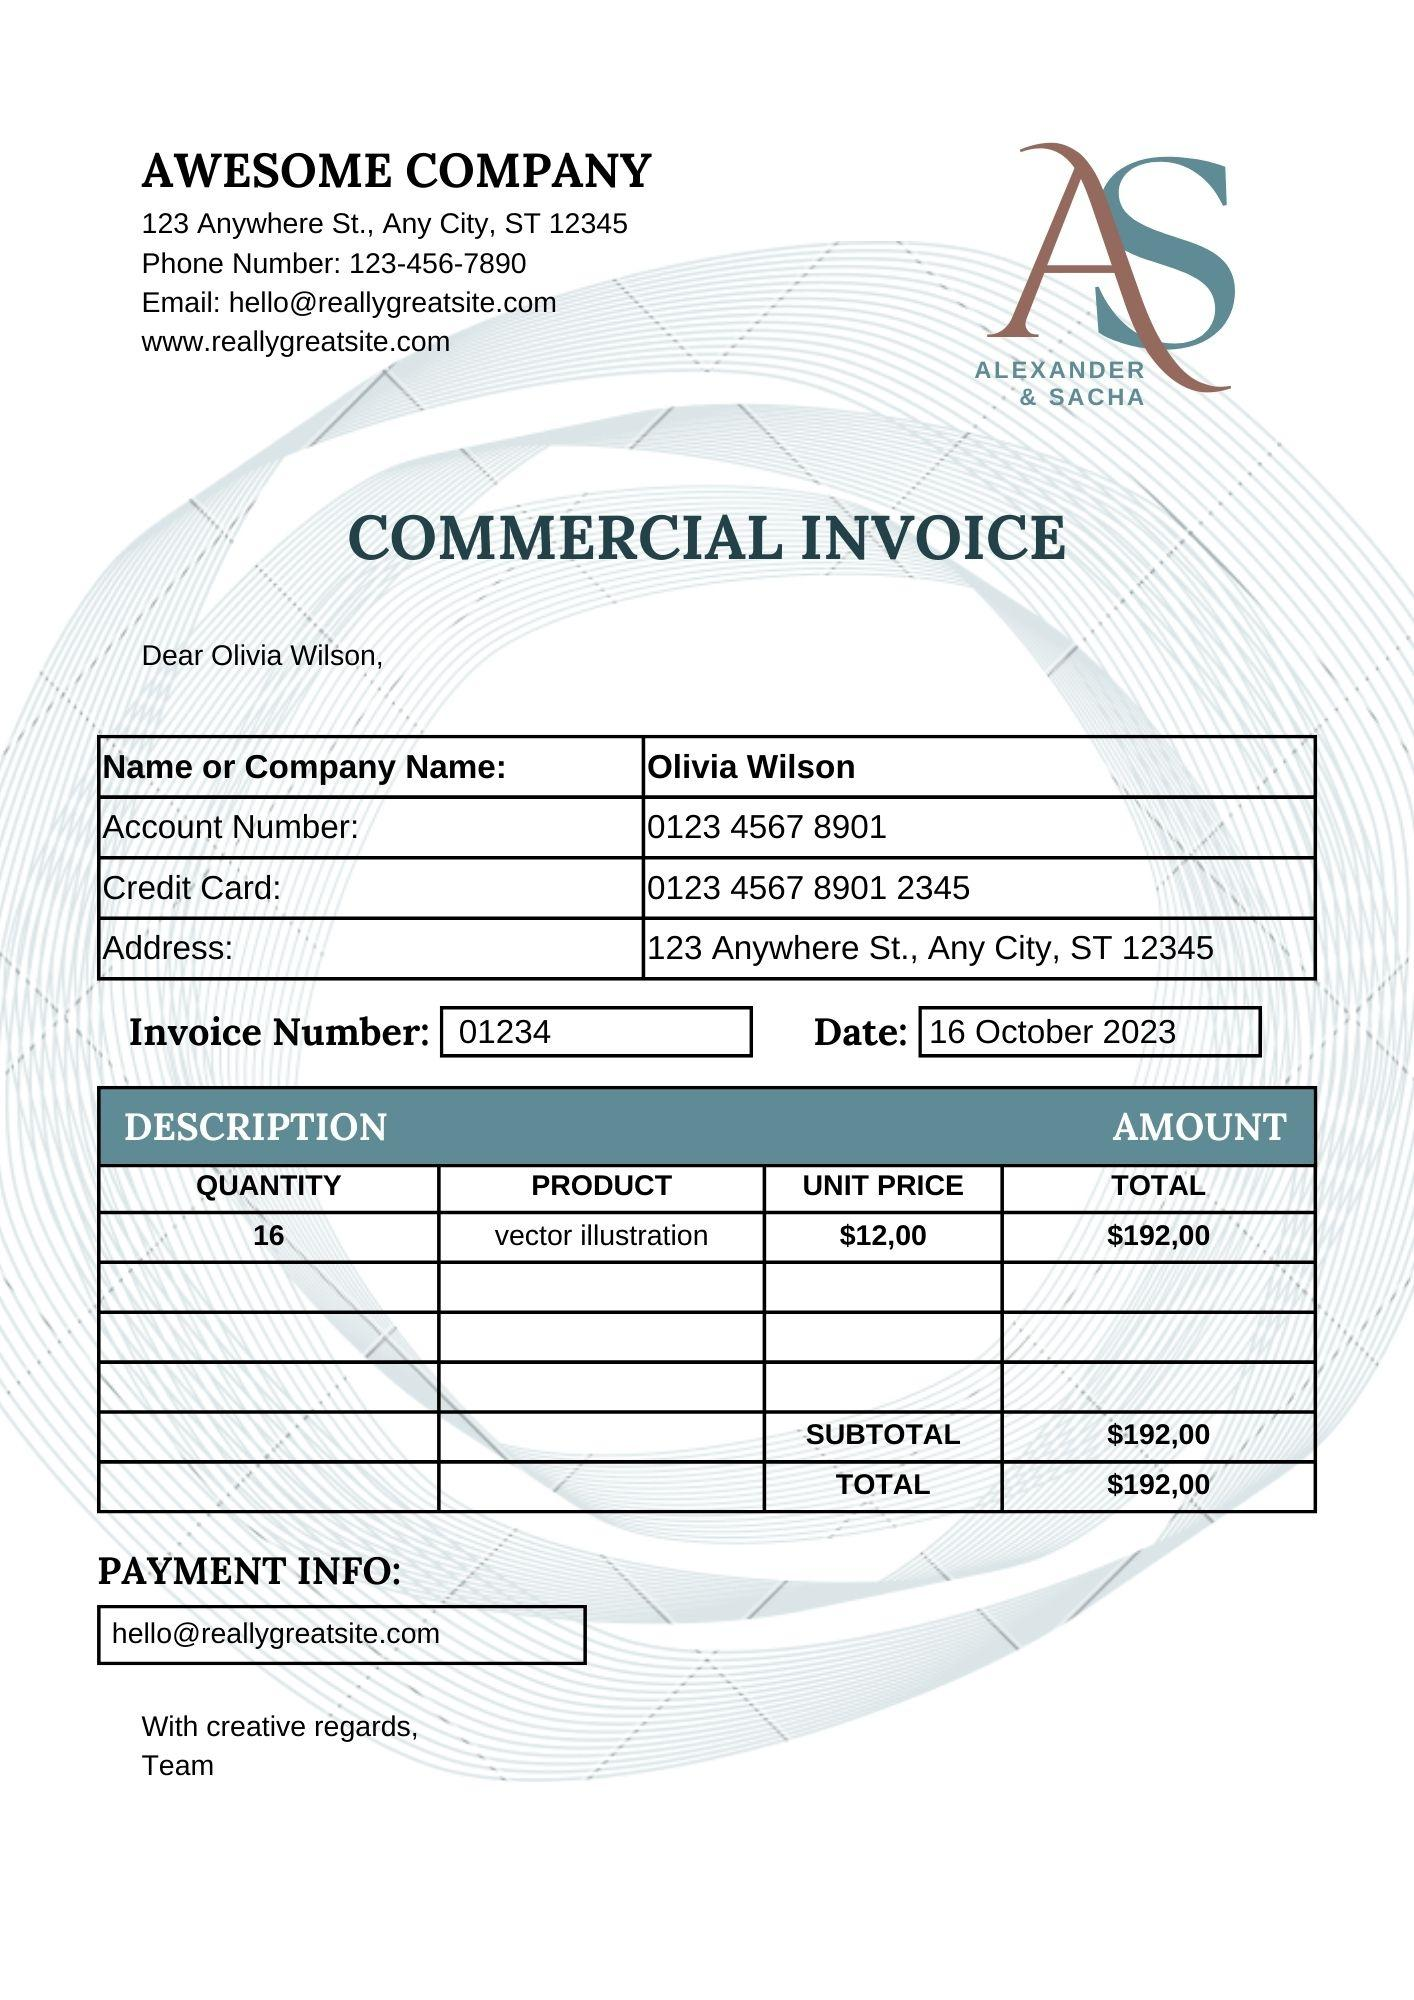ROI: (89, 1077, 1325, 1529)
